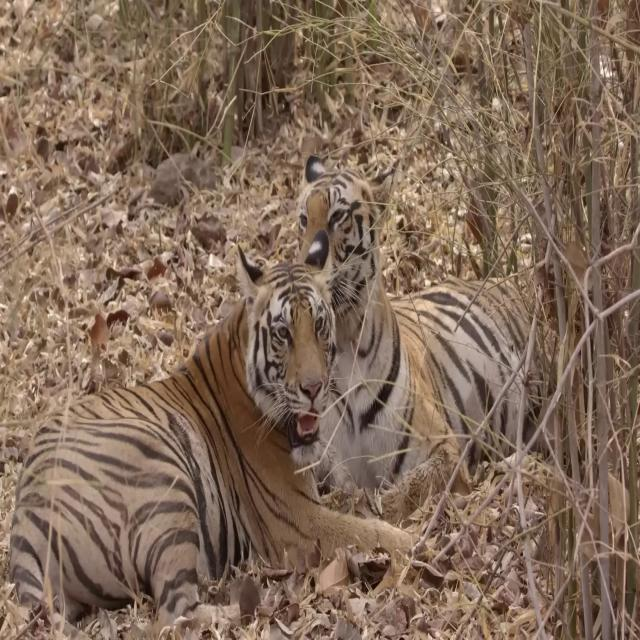tiger: (8, 228, 449, 640), (298, 152, 550, 518)
